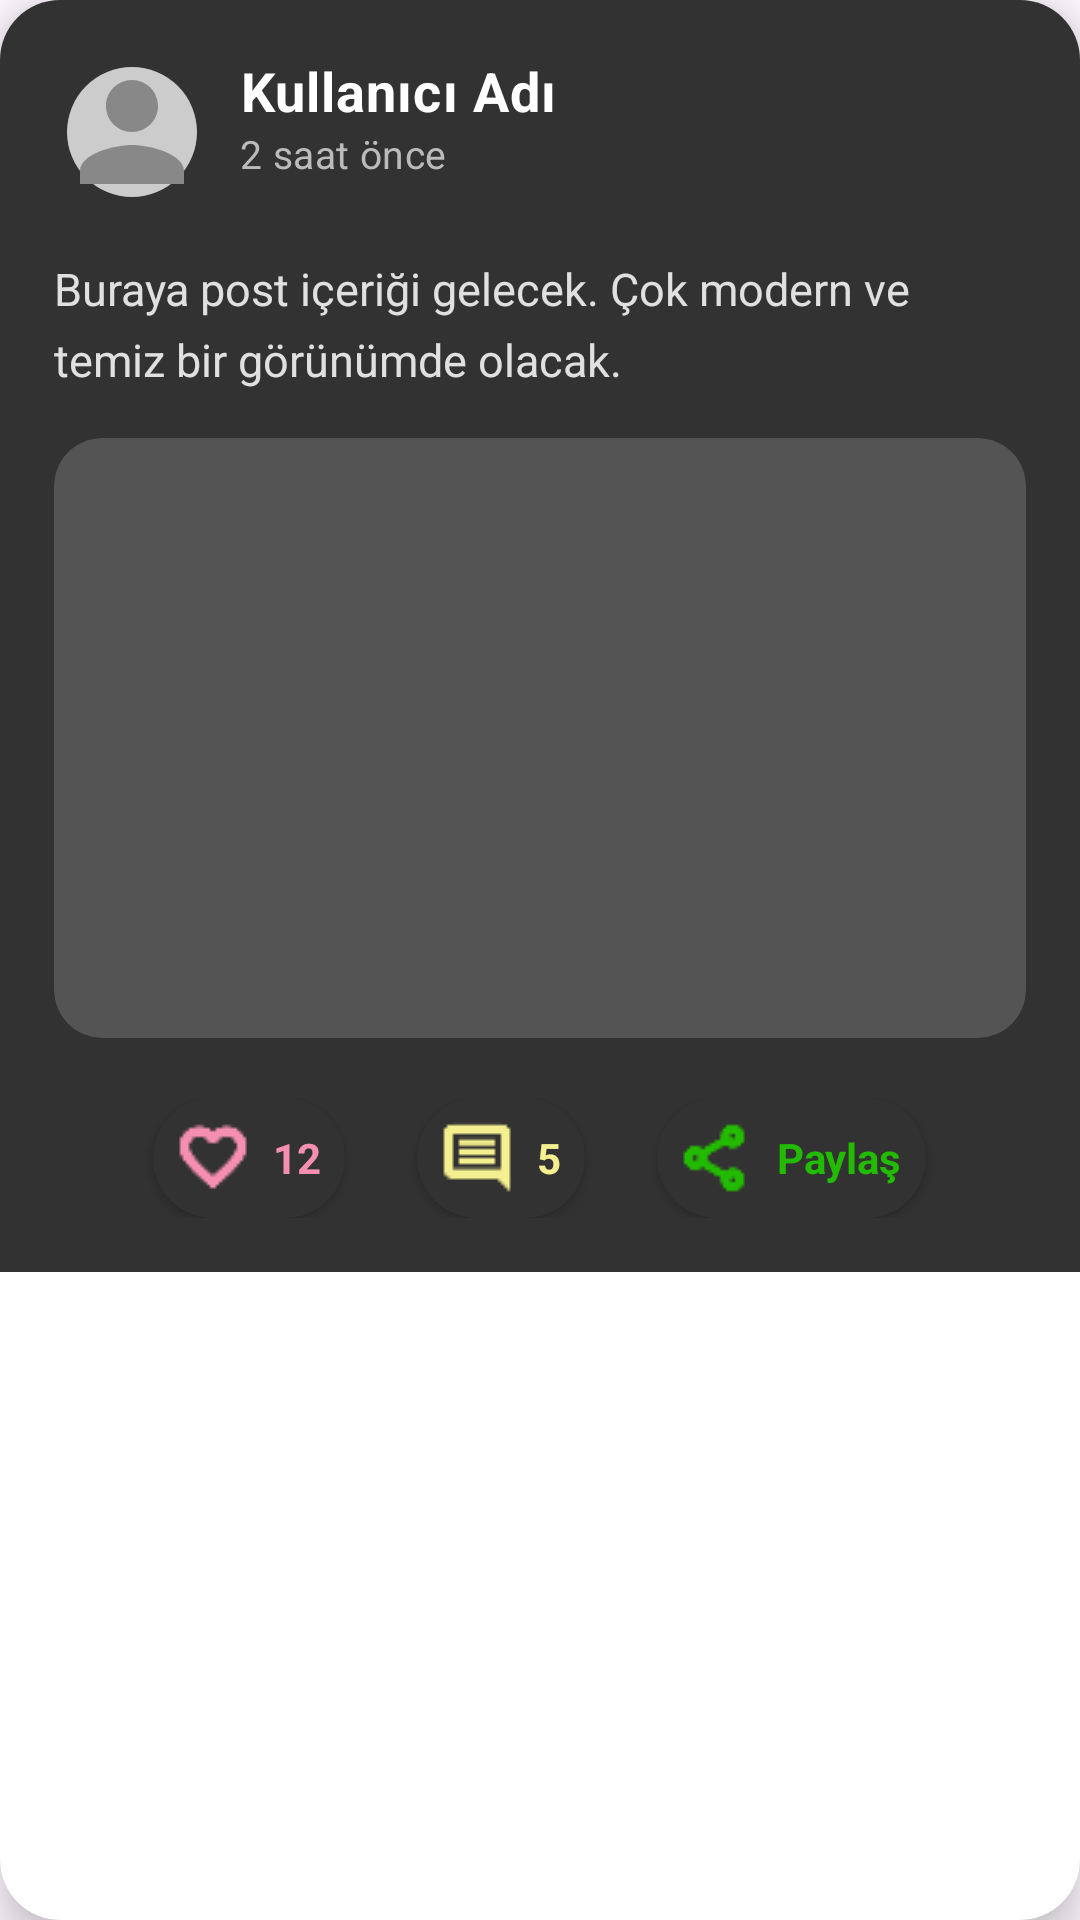

Screen size 1080 × 1920. Icon name, then its box in pixels as (x1=x1, y1=y1, x2=x2, y2=y2):
Beğen: (x1=179, y1=1124, x2=247, y2=1189)
Yorum yap: (x1=443, y1=1124, x2=511, y2=1192)
